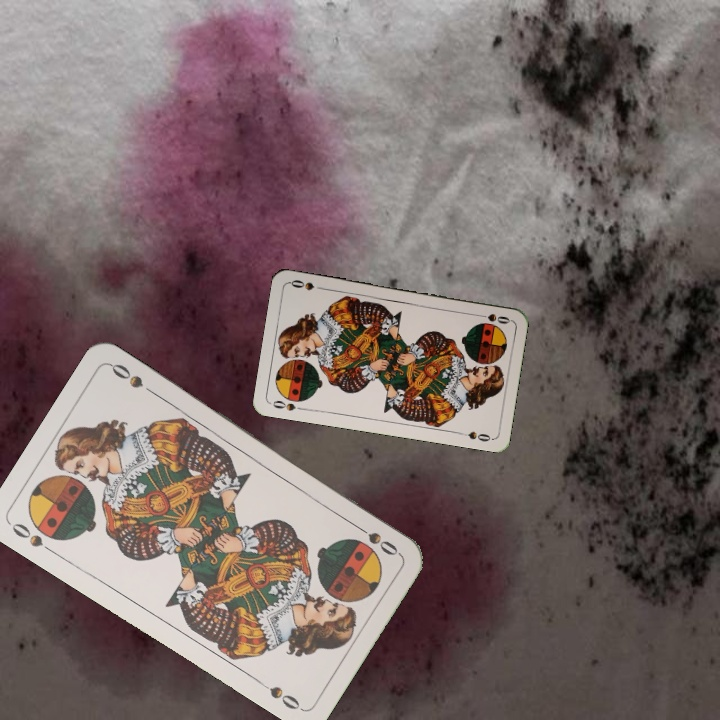SO: (349, 519, 402, 559), (7, 518, 58, 557), (472, 309, 512, 327), (268, 396, 308, 413)
